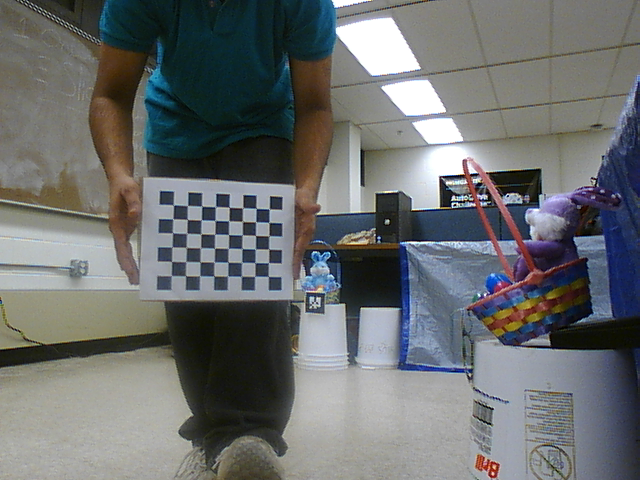bunny: (456, 150, 601, 353)
